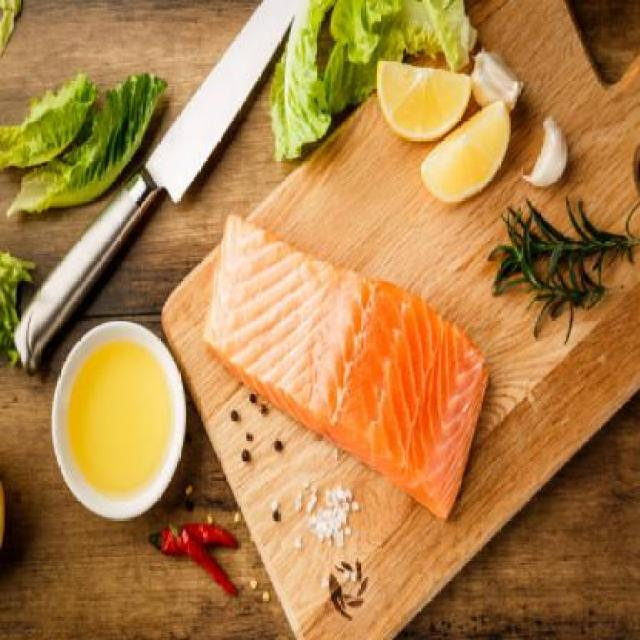salmon: (186, 189, 507, 535)
